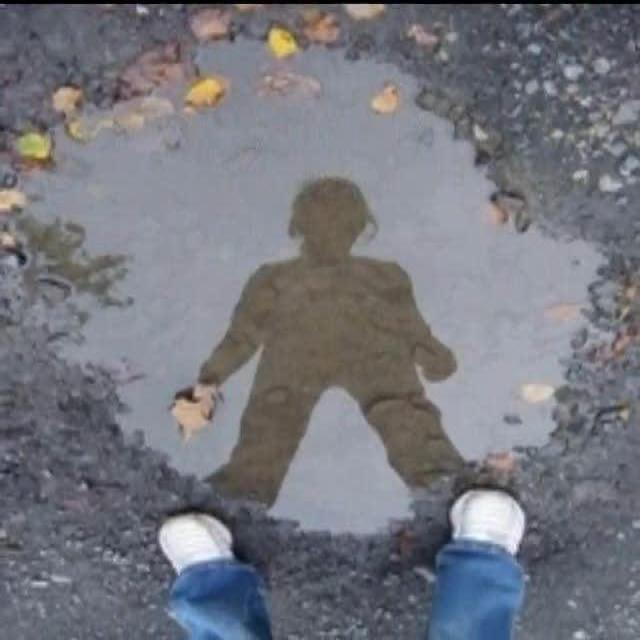other: (105, 303, 568, 548), (39, 31, 452, 137)
